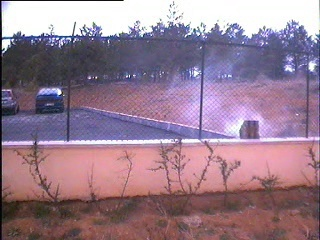smoke: (172, 61, 277, 139)
